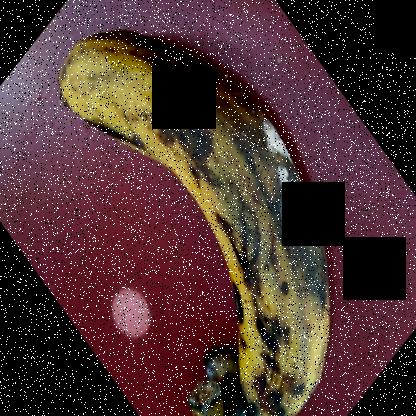rotten: (53, 20, 343, 415)
